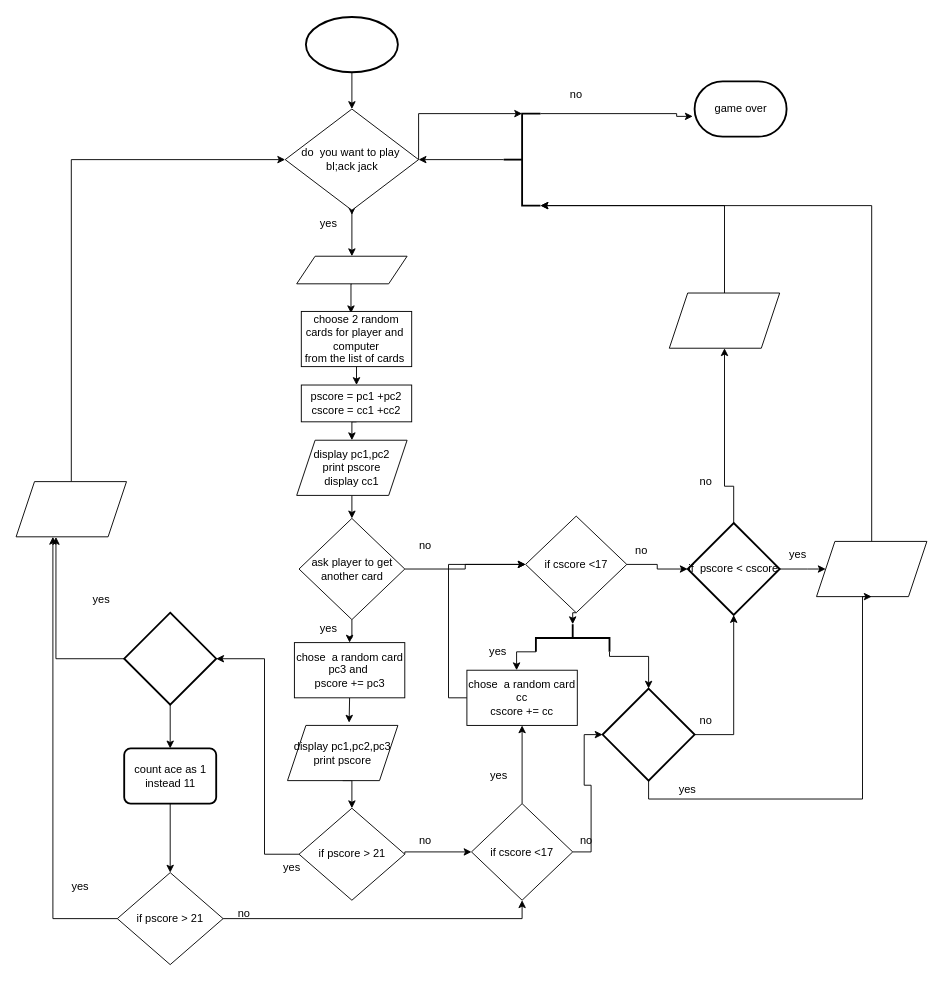
Image size: 943x981. Some labels were removed from this diagram. Each missing label, with the box of its shape:
cscore > 21: (601, 687, 695, 781)
display you loose: (15, 481, 126, 537)
do player have Ace?: (123, 611, 217, 705)
print logo: (296, 255, 407, 284)
print you loose: (668, 292, 780, 348)
print you win: (816, 540, 927, 597)
start: (305, 16, 398, 73)
